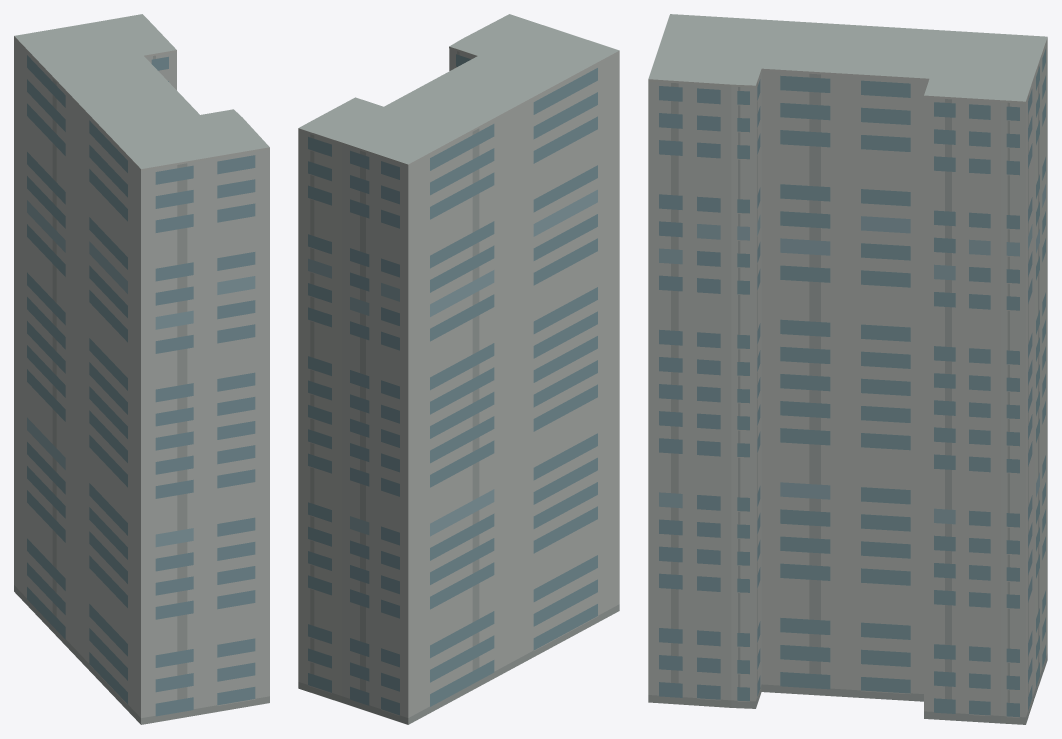
File: residential-13b47102-129d-4d10-93cb-0586fc58d5c3.glb
The picture shows the model from 3 angles, left to right: view 1: azimuth 30°, elevation 25°; view 2: azimuth 150°, elevation 25°; view 3: azimuth 270°, elevation 25°; orthographic projection. The views are drawn at different scales.
Parts seen in each view (by area): view 1: residential-13b47102-129d-4d10-93cb-0586fc58d5c3.tmp; view 2: residential-13b47102-129d-4d10-93cb-0586fc58d5c3.tmp; view 3: residential-13b47102-129d-4d10-93cb-0586fc58d5c3.tmp.
Boxes of the visible parts, x1,y1,x2,y2 form: residential-13b47102-129d-4d10-93cb-0586fc58d5c3.tmp: (14, 14, 269, 724); residential-13b47102-129d-4d10-93cb-0586fc58d5c3.tmp: (298, 14, 619, 724); residential-13b47102-129d-4d10-93cb-0586fc58d5c3.tmp: (648, 14, 1047, 724).
Size of the model in its own units: 21.16 by 70.15 by 40.75.
